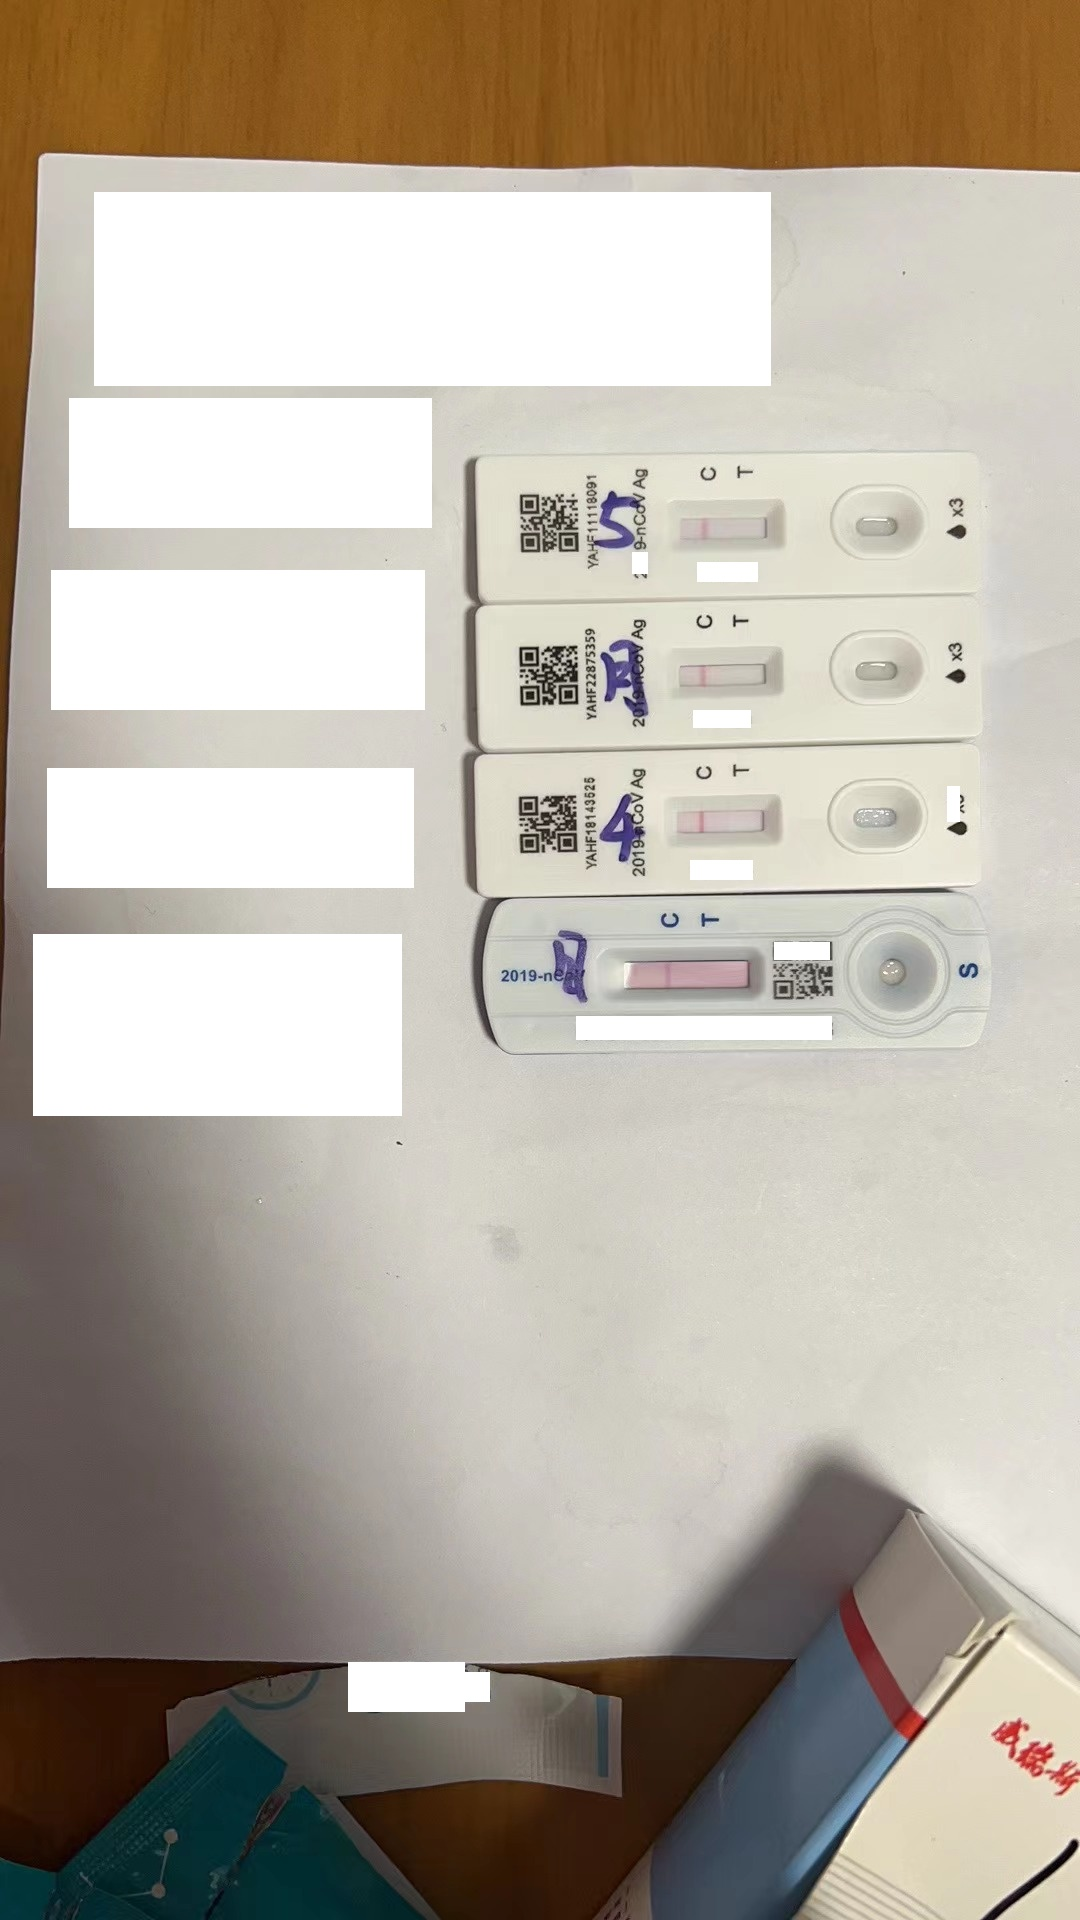negative: (599, 942, 771, 1007), (667, 502, 785, 549), (667, 800, 783, 844), (676, 651, 771, 698)
